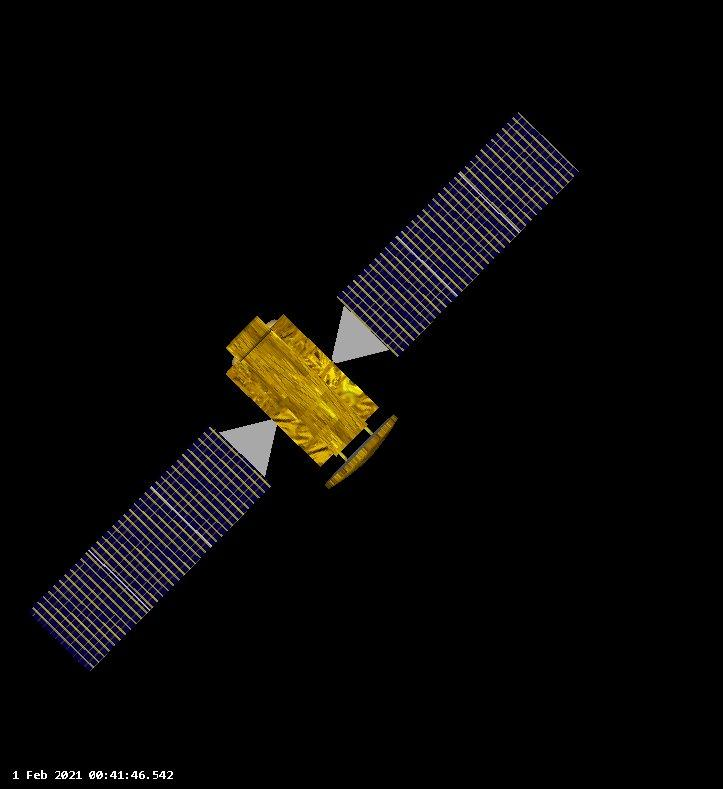antenna: (321, 411, 403, 492)
body: (213, 305, 381, 470)
solar: (334, 108, 583, 360), (28, 423, 275, 676)
